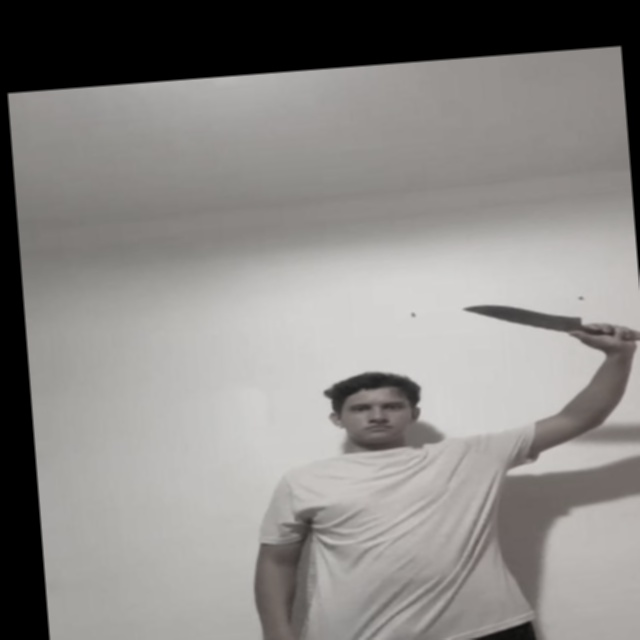Sharp-Object: (459, 296, 585, 337)
